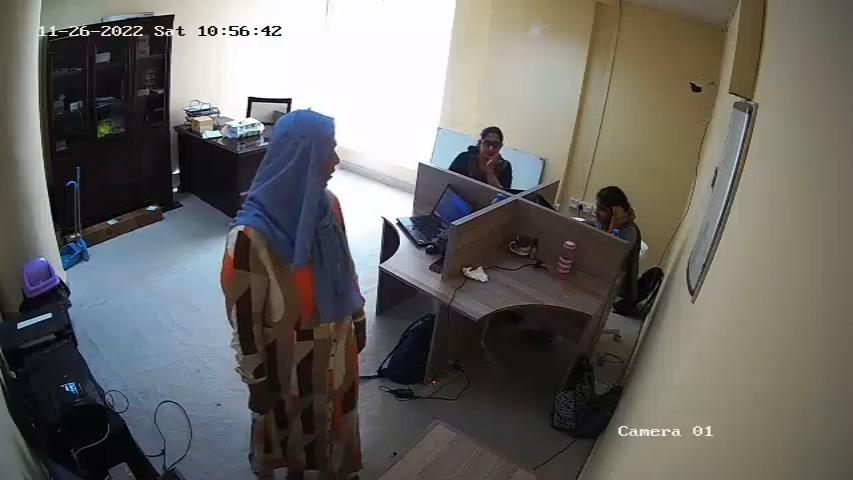no_apron: (257, 201, 347, 378), (432, 145, 432, 146)
